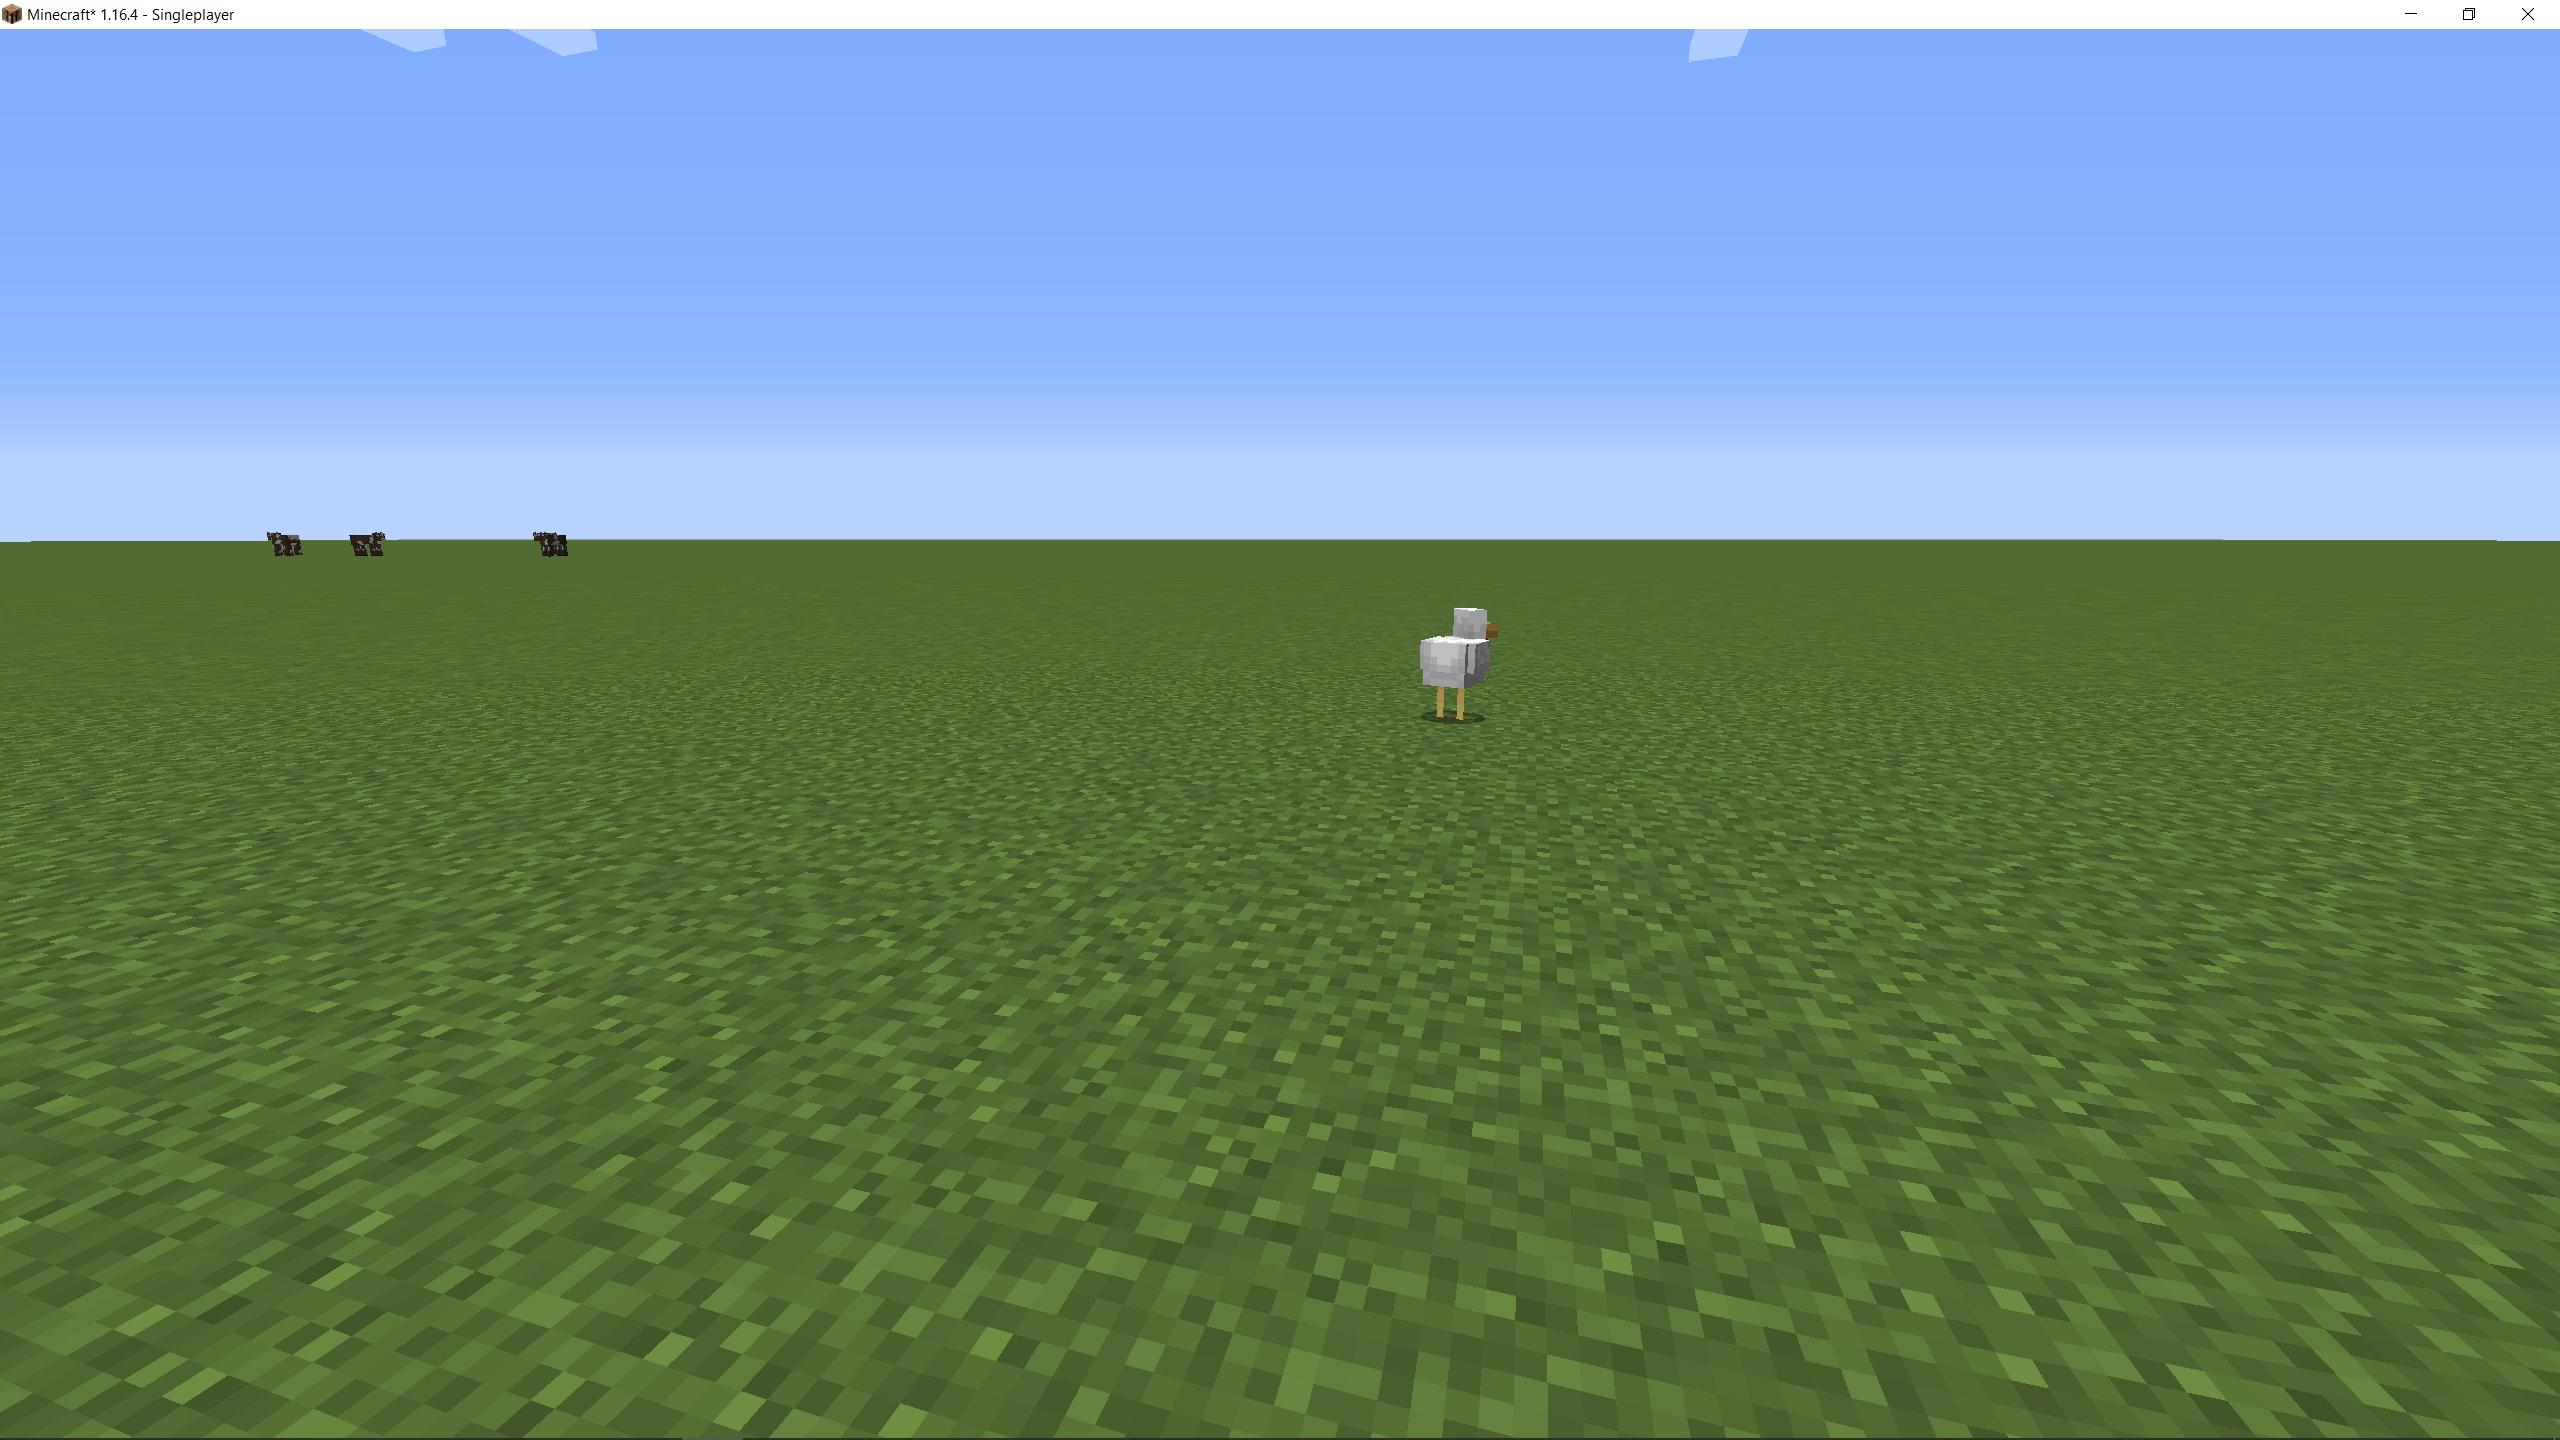chicken: (1412, 601, 1510, 733)
